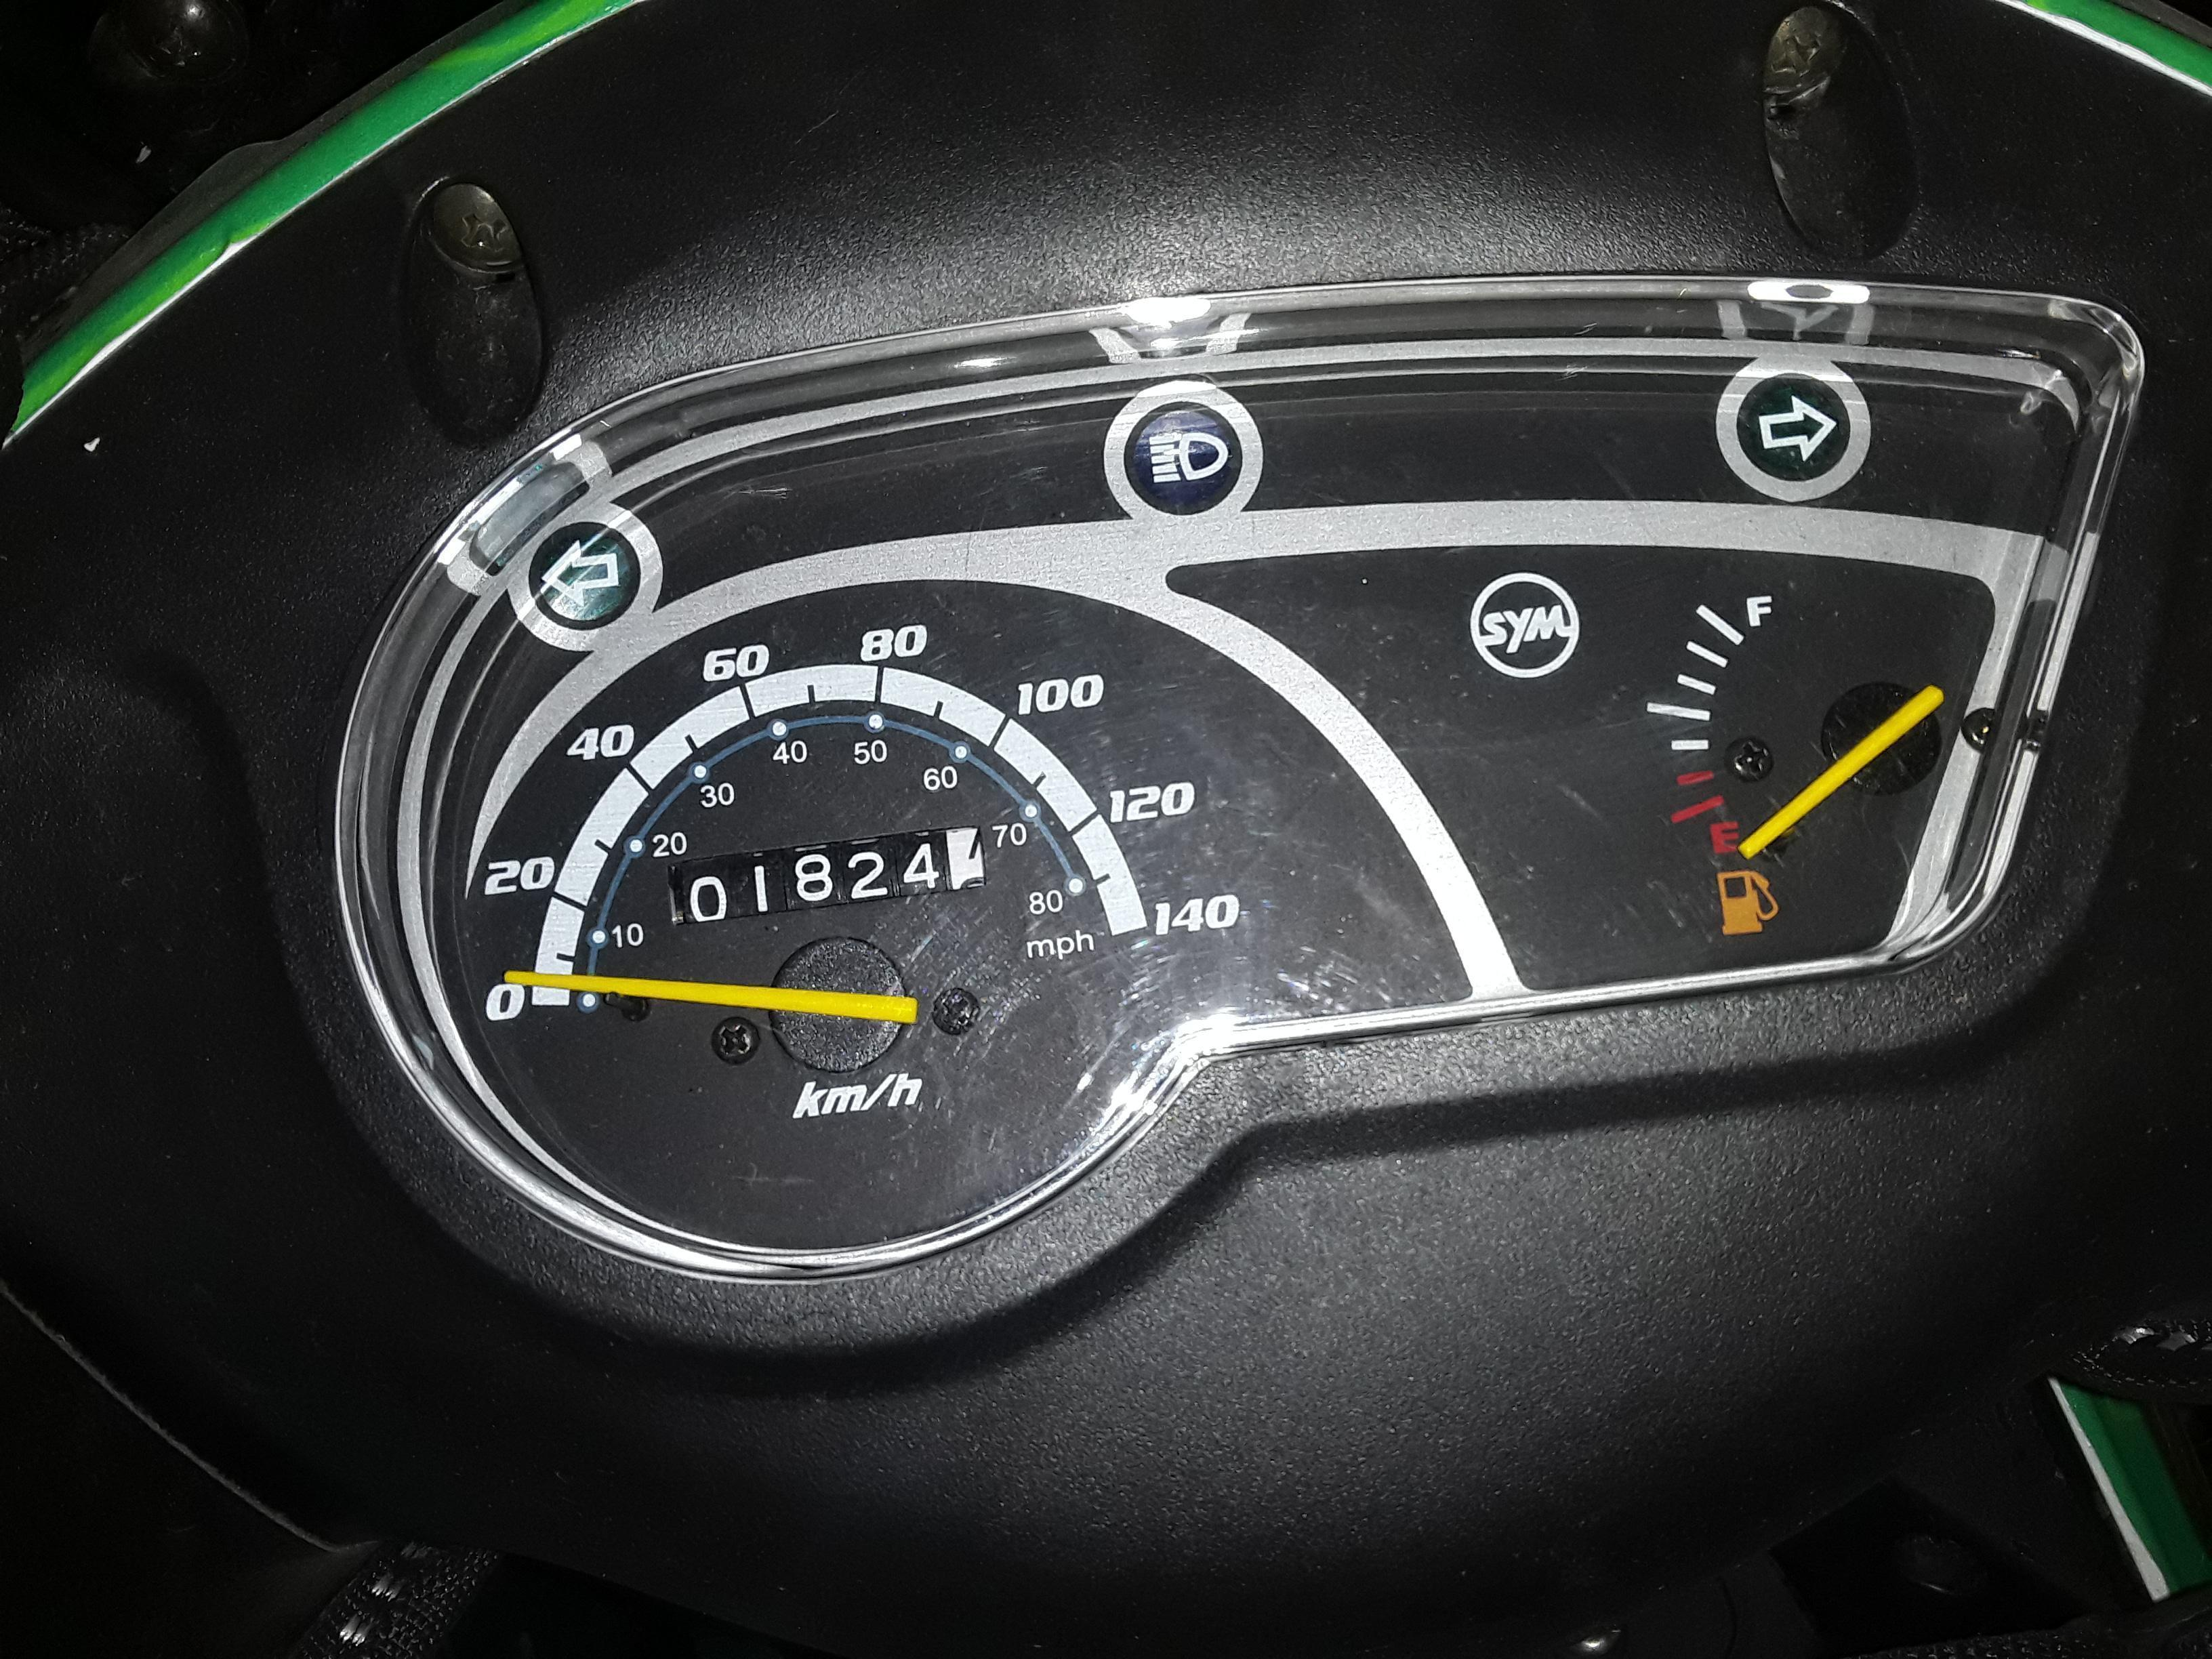0: (685, 866, 737, 929), (671, 829, 690, 859)
1: (749, 861, 775, 922)
2: (845, 849, 890, 904), (651, 829, 669, 861)
4: (899, 836, 941, 899)
7: (949, 823, 986, 863)
8: (792, 852, 834, 910)
odometer: (650, 817, 995, 941)
